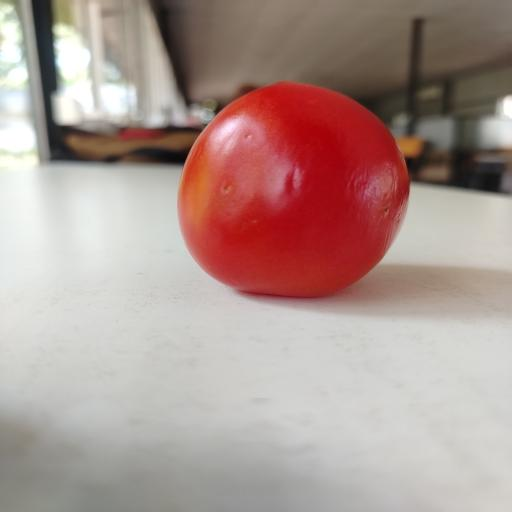ripe: (178, 82, 409, 297)
